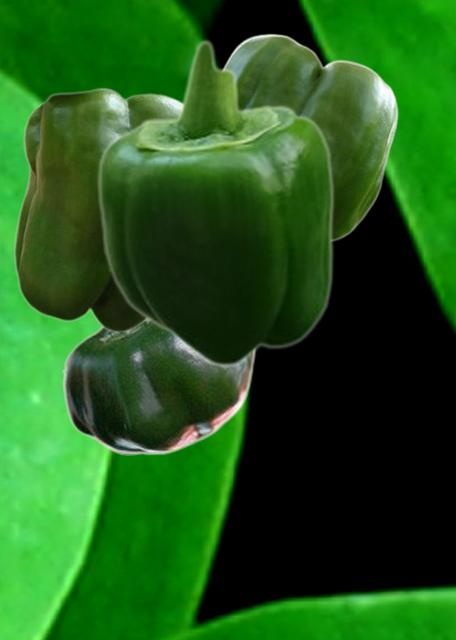bell_pepper: (96, 38, 334, 368), (13, 87, 180, 332), (221, 33, 397, 241), (61, 322, 255, 454)
